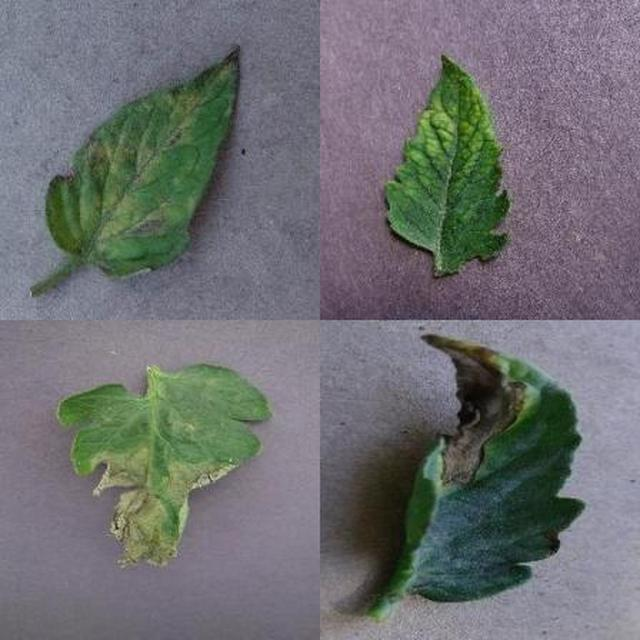Leaf Mold: (185, 229, 640, 640)
